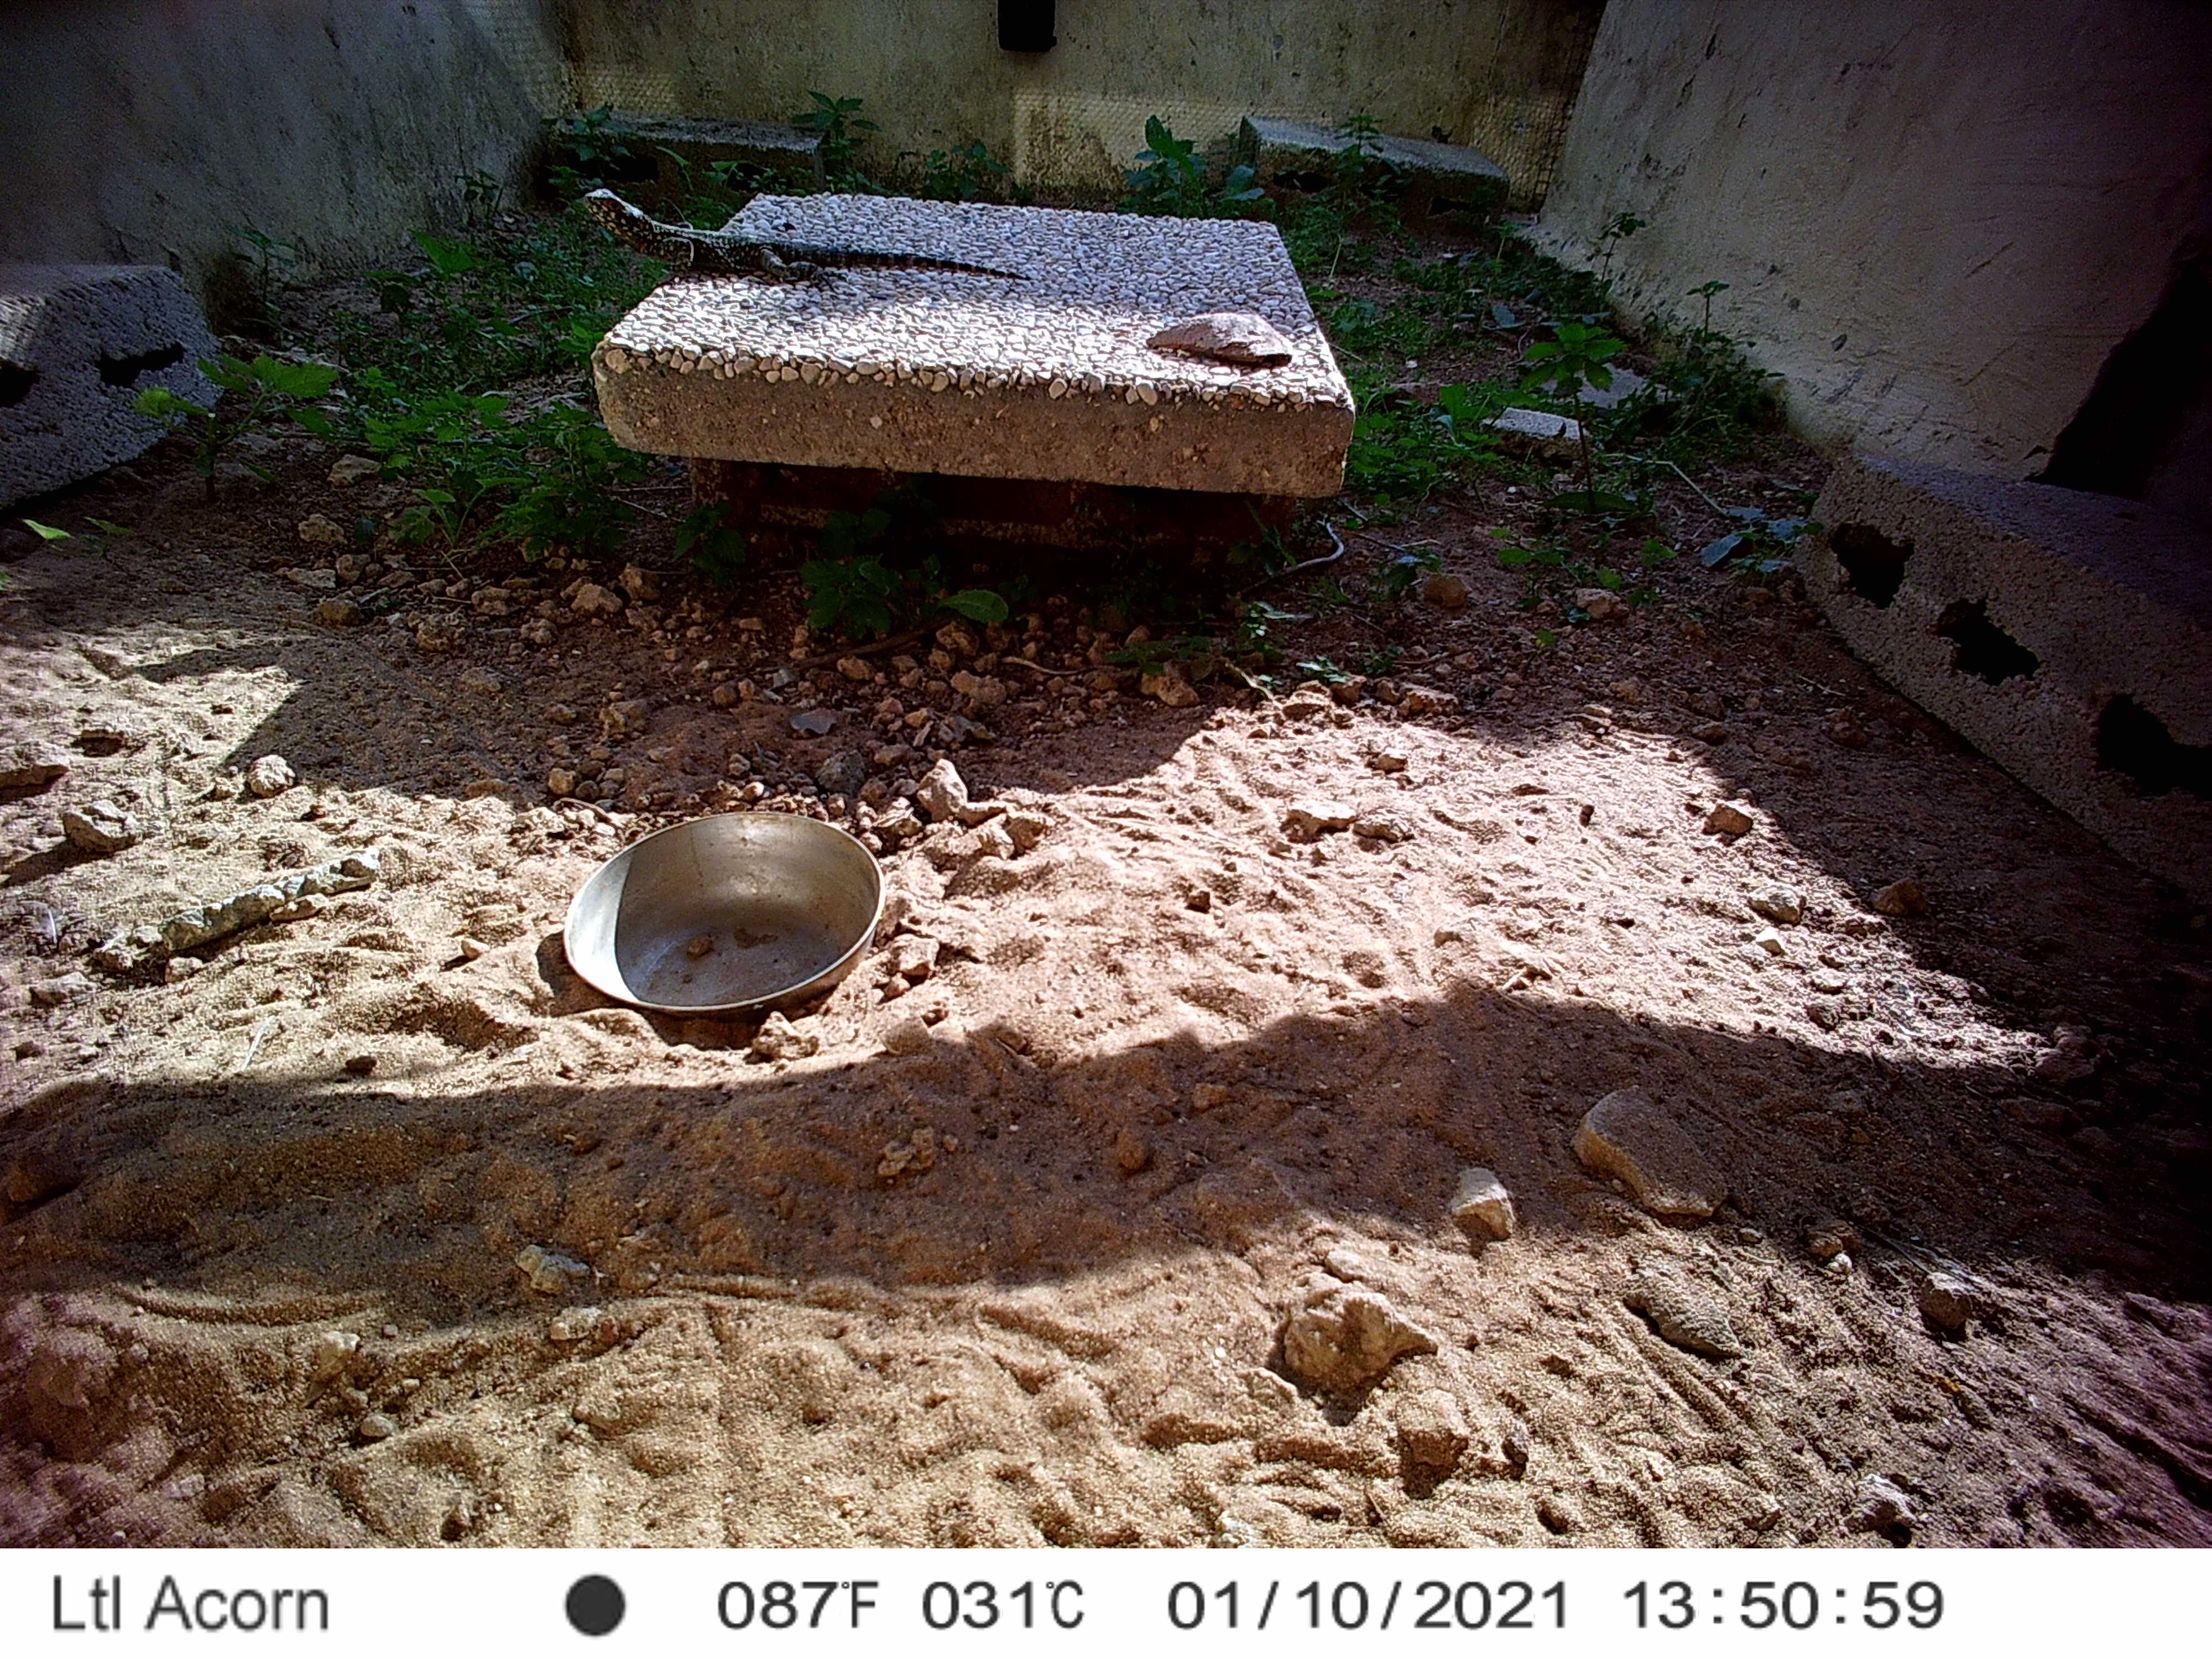lizard: (578, 179, 1029, 295)
